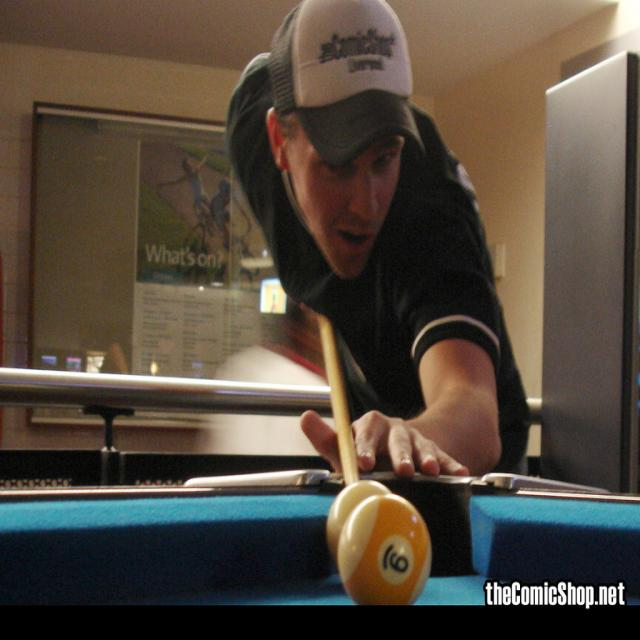Ball: (337, 495, 429, 607), (328, 482, 388, 562)
Billiard table: (0, 470, 639, 607)
